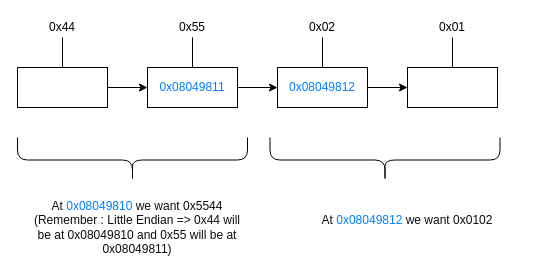
This 535x274 diagram has some shape labels left out. The centre of each missing label's shape, as x and y in pixels:
"0x08049810" goes at (x=62, y=87).
"0x08049813" goes at (x=452, y=87).
